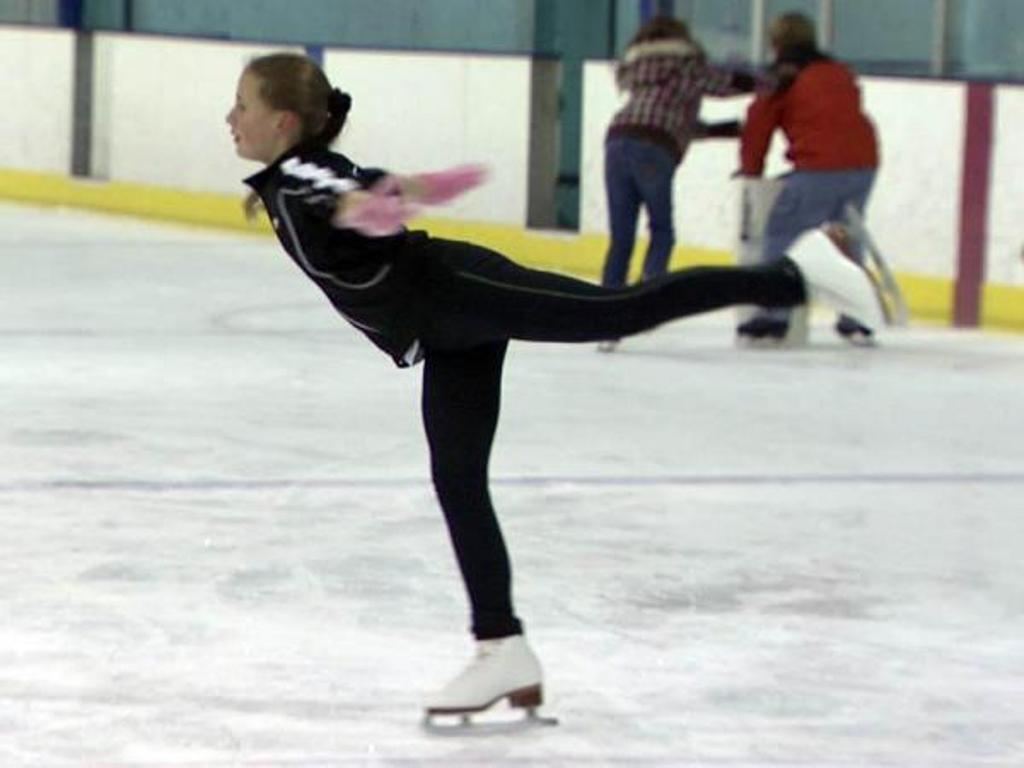face: (225, 74, 279, 158)
